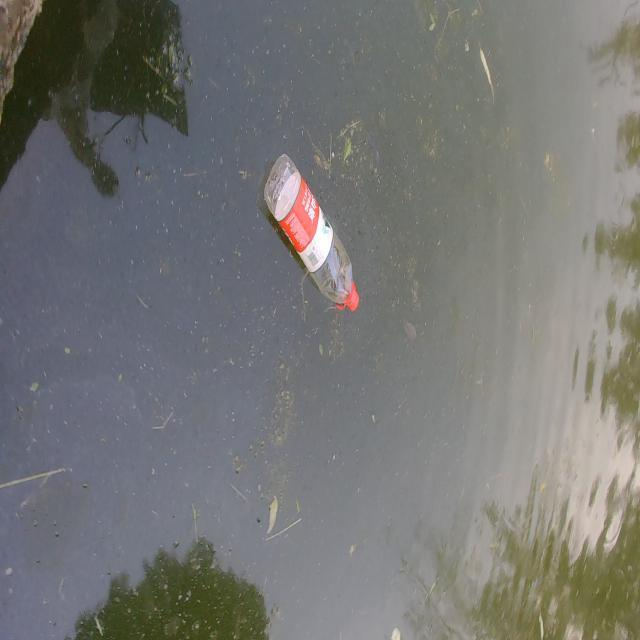bottle: (240, 123, 374, 319)
